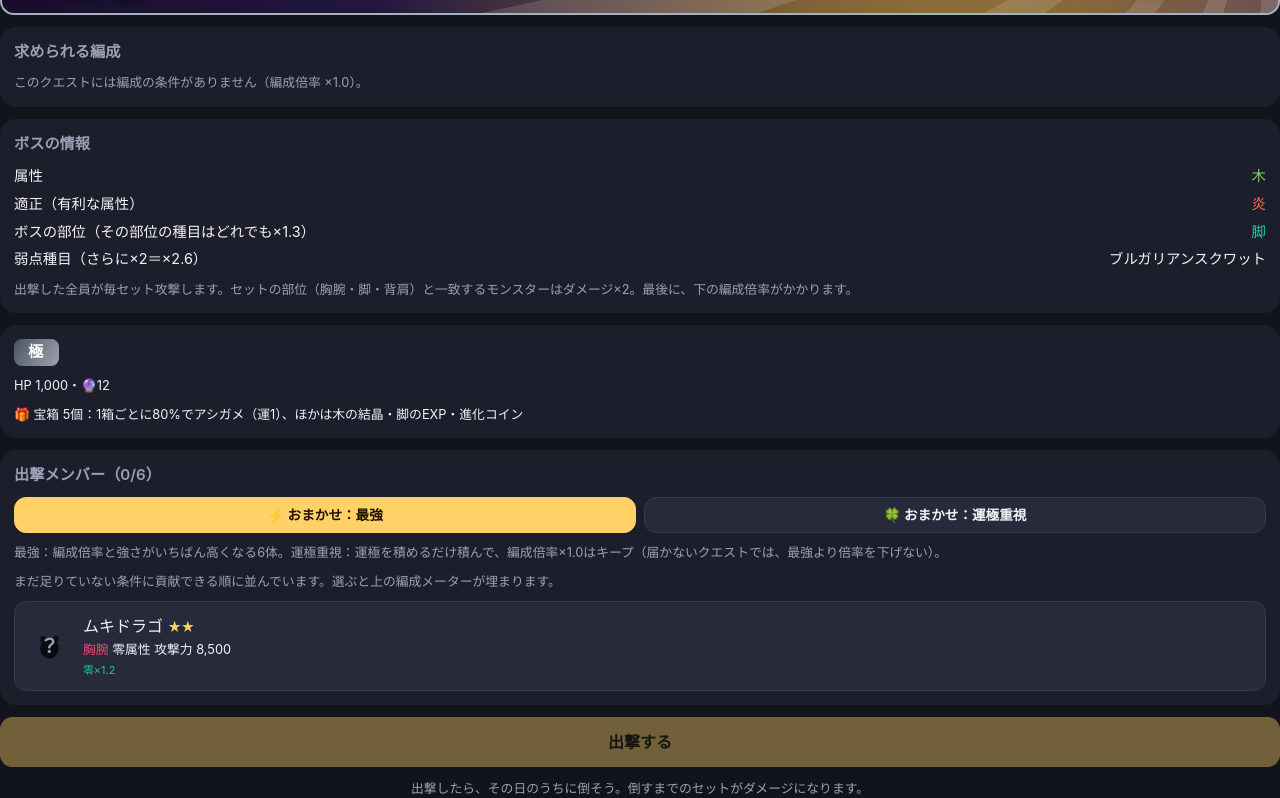
Test: 画面の表示 › クエスト詳細：倒すまでの目安はセット数（弱点種目・ボスの部位・ほかの部位・ローラー）
(page scrolled)
What coordinates should you click on to do the following:
click the button "？ ムキドラゴ ★★ 胸腕 零属性 攻撃力 8,500 零×1.2"
I would click on:
 (49, 646)
Its box is [14,601,1266,691].
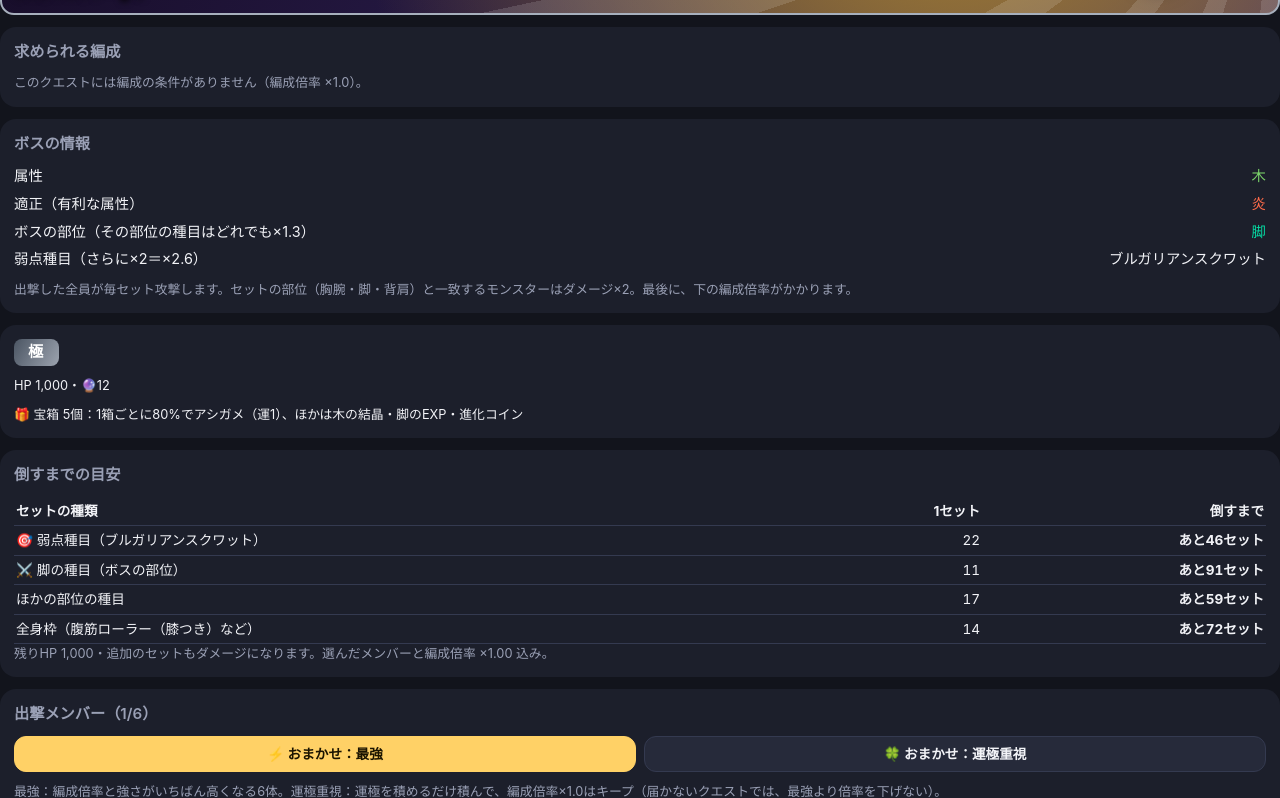
Now the table with class "estimate-table" shows "🎯 弱点種目", box [16,532,267,548]
Now the table with class "estimate-table" shows "⚔️ 脚の種目（ボスの部位）", box [16,562,186,578]
Now the table with class "estimate-table" reads "セットの種類 1セット 倒すまで 🎯 弱点種目（ブルガリアンスクワット） 22 あと46セット ⚔️ 脚の種目（ボスの部位） 11 あと91セット ほかの部位", box [1178,532,1264,548]
